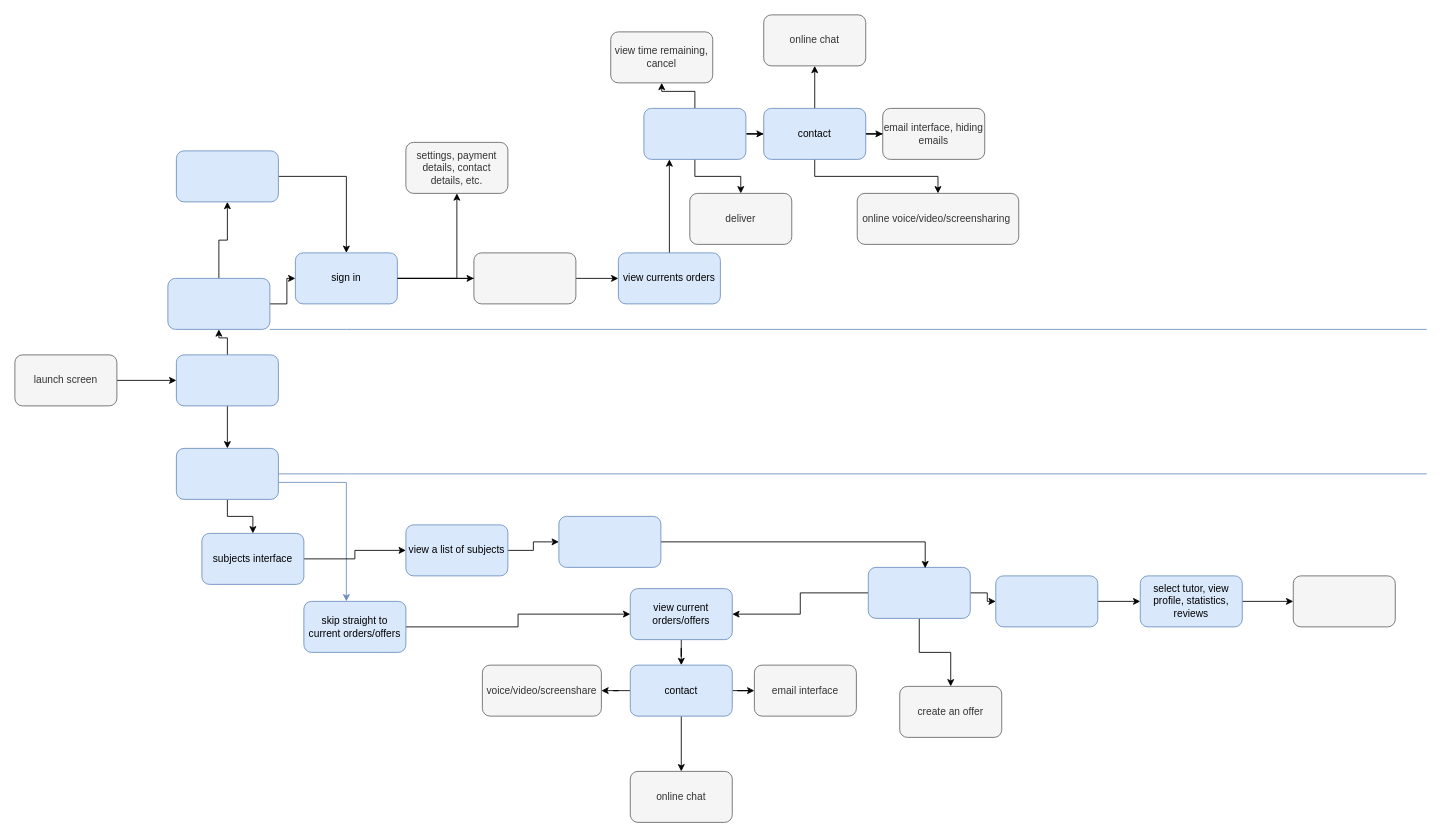
The diagram is 1442 pixels wide and 837 high, and some of its shapes have lost their labels. Here are the shapes that lost their labels. From the top down, the centre of each, then its label:
At point (694, 133): "options on order".
At point (227, 176): "sign up".
At point (524, 278): "view offers, accept, decline".
At point (218, 303): "tutors".
At point (227, 380): "main interface".
At point (227, 473): "students".
At point (609, 541): "selected subject, view tutors".
At point (918, 592): "order/offer interface".
At point (1046, 601): "view tutors".
At point (1343, 601): "make an order".
